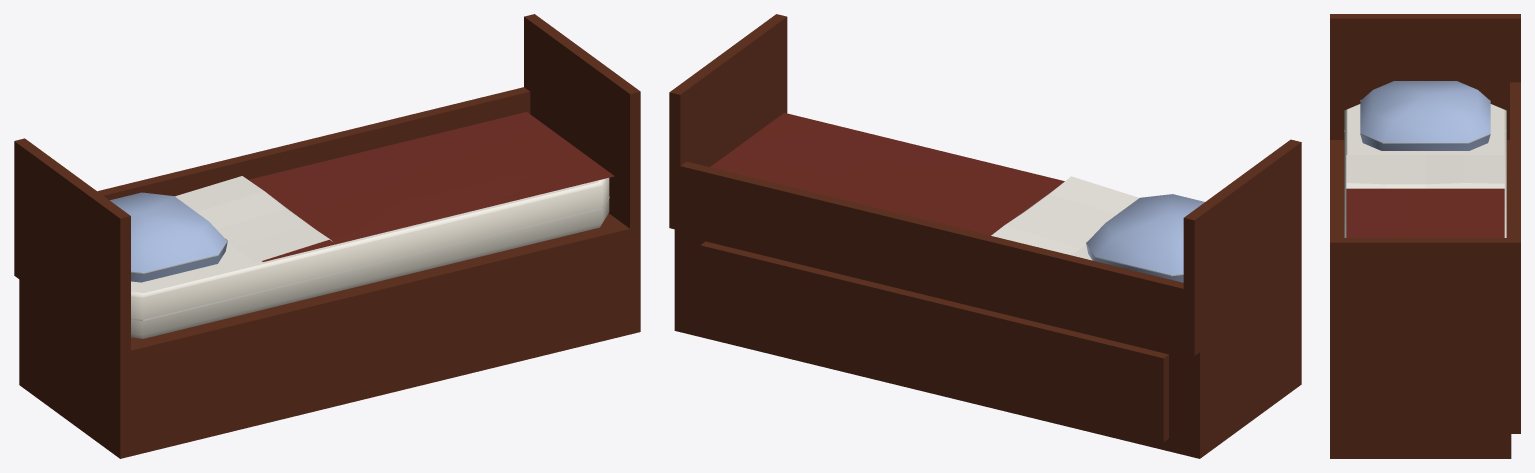
The model's file is parametric-sized-berth-l170w60-3rd.glb.
3 renders of one model, left to right at view 1: azimuth 30°, elevation 25°; view 2: azimuth 150°, elevation 25°; view 3: azimuth 270°, elevation 25°, orthographic. The views are drawn at different scales.
Parts seen in each view (by area): view 1: parametric-sized-berth-l170w60-3rd; view 2: parametric-sized-berth-l170w60-3rd; view 3: parametric-sized-berth-l170w60-3rd.
Boxes of the visible parts, bbox=[...] form: parametric-sized-berth-l170w60-3rd: bbox=[14, 14, 640, 458]; parametric-sized-berth-l170w60-3rd: bbox=[669, 14, 1301, 458]; parametric-sized-berth-l170w60-3rd: bbox=[1330, 14, 1520, 458].
Bounding box in the file's own units: 1.7 × 0.75 × 0.6.
